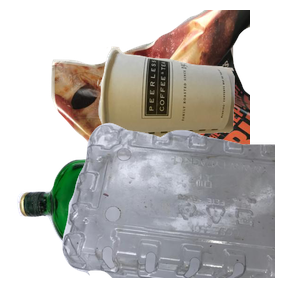glass: (14, 150, 247, 300)
paper: (49, 10, 289, 190)
plastic: (60, 120, 300, 300)
trash: (95, 44, 300, 180)
